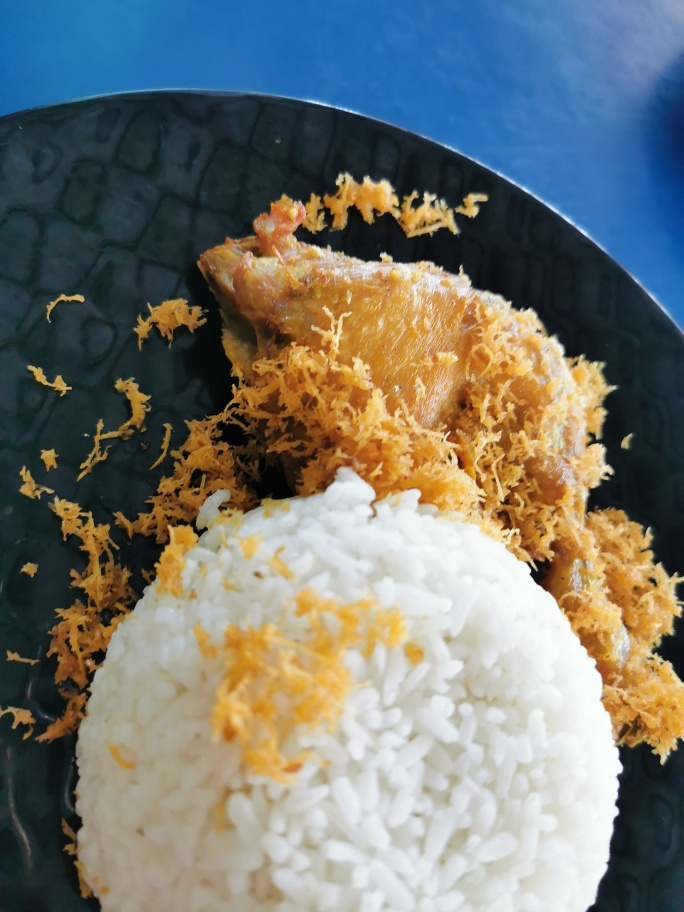ayam goreng: (195, 190, 671, 766)
nasi putih: (72, 493, 627, 912)
